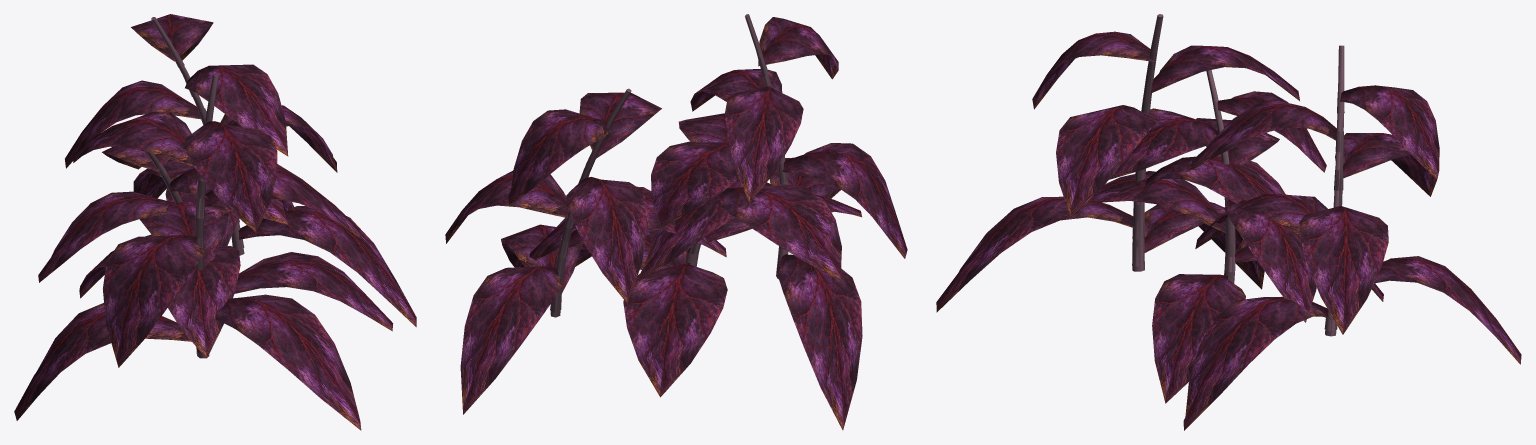
File: broadgrass_01.glb
3 renders of one model, left to right at view 1: azimuth 30°, elevation 25°; view 2: azimuth 150°, elevation 25°; view 3: azimuth 270°, elevation 25°, orthographic.
Parts seen in each view (by area): view 1: export; view 2: export; view 3: export.
Boxes of the visible parts, x1,y1,x2,y2 form: export: [14, 14, 416, 430]; export: [445, 14, 907, 430]; export: [936, 14, 1521, 430].
Bounding box in the file's own units: 0.8121 × 0.7422 × 1.13.
2 materials, 2 textured.
